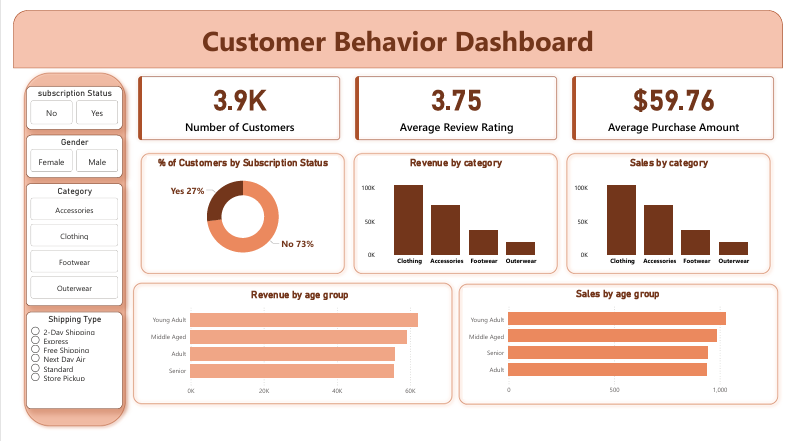

This screenshot's page, from the dashboard's own definition file:
{"tool":"powerbi","page":{"name":"Page 1","canvas":[1500,820],"ordinal":0},"visuals":[{"type":"cardVisual","fields":{"Data":["public customer.Number of Customers","public customer.Average Review Rating","public customer.Average Purchase Amount"]},"box":[228.1,112.7,1272.3,158],"z":0},{"type":"shape","box":[0,0,1500,113.3],"z":1000},{"type":"textbox","box":[0,16.7,1500,85],"z":2000},{"type":"shape","box":[240,270,415,253.3],"z":3000},{"type":"donutChart","title":"% of  Customers by Subscription Status","fields":{"Category":["public customer.subscription_status"],"Y":["CountNonNull(public customer.customer_id)"]},"box":[261.7,285,371.7,213.3],"z":4000},{"type":"clusteredColumnChart","title":"Sales by category","fields":{"Y":["Sum(public customer.purchase_amount)"],"Category":["public customer.category"]},"box":[1088.3,285,380,221.7],"z":5000},{"type":"shape","box":[1070.3,265.2,409.5,252.8],"z":6000},{"type":"shape","box":[655.4,265.2,414.9,252.8],"z":7000},{"type":"clusteredColumnChart","title":"Revenue by category","fields":{"Y":["Sum(public customer.purchase_amount)"],"Category":["public customer.category"]},"box":[673.3,285,380,221.7],"z":8000},{"type":"shape","box":[11.7,113.3,216.7,706.7],"z":9000},{"type":"advancedSlicerVisual","title":"subscription Status","fields":{"Values":["public customer.subscription_status"]},"box":[25,148.3,188.3,85],"z":10000},{"type":"advancedSlicerVisual","title":"Gender","fields":{"Values":["public customer.gender"]},"box":[25,243.3,188.3,83.3],"z":11000},{"type":"advancedSlicerVisual","title":"Category","fields":{"Values":["public customer.category"]},"box":[25,338.3,188.3,238.3],"z":12000},{"type":"listSlicer","title":"Shipping Type","fields":{"Values":["public customer.shipping_type"]},"box":[25,588.3,188.3,190],"z":13000},{"type":"clusteredBarChart","title":"Revenue by age group","fields":{"Y":["Sum(public customer.purchase_amount)"],"Category":["public customer.age_group"]},"box":[258.3,543.3,601.7,216.7],"z":14000},{"type":"shape","box":[860.1,524.9,640.3,252.8],"z":15000},{"type":"shape","box":[240.5,524.9,626.5,252.8],"z":16000},{"type":"clusteredBarChart","title":"Sales by age group","fields":{"Y":["CountNonNull(public customer.customer_id)"],"Category":["public customer.age_group"]},"box":[878.3,541.7,601.7,216.7],"z":17000}]}

Visuals, with their boxes in screenshot pixels (x1, y1, x2, y2), scaled from the page's 1500x820 canvas onto the 792x441 screenshot:
cardVisual - public customer.Number of Customers x public customer.Average Review Rating: box=[120, 61, 791, 146]
shape: box=[0, 0, 791, 61]
textbox: box=[0, 9, 791, 55]
shape: box=[127, 145, 346, 281]
"% of  Customers by Subscription Status" donutChart: box=[138, 153, 334, 268]
"Sales by category" clusteredColumnChart: box=[575, 153, 775, 273]
shape: box=[565, 143, 781, 279]
shape: box=[346, 143, 565, 279]
"Revenue by category" clusteredColumnChart: box=[356, 153, 556, 273]
shape: box=[6, 61, 121, 440]
"subscription Status" advancedSlicerVisual: box=[13, 80, 113, 125]
"Gender" advancedSlicerVisual: box=[13, 131, 113, 176]
"Category" advancedSlicerVisual: box=[13, 182, 113, 310]
"Shipping Type" listSlicer: box=[13, 316, 113, 419]
"Revenue by age group" clusteredBarChart: box=[136, 292, 454, 409]
shape: box=[454, 282, 791, 418]
shape: box=[127, 282, 458, 418]
"Sales by age group" clusteredBarChart: box=[464, 291, 781, 408]
